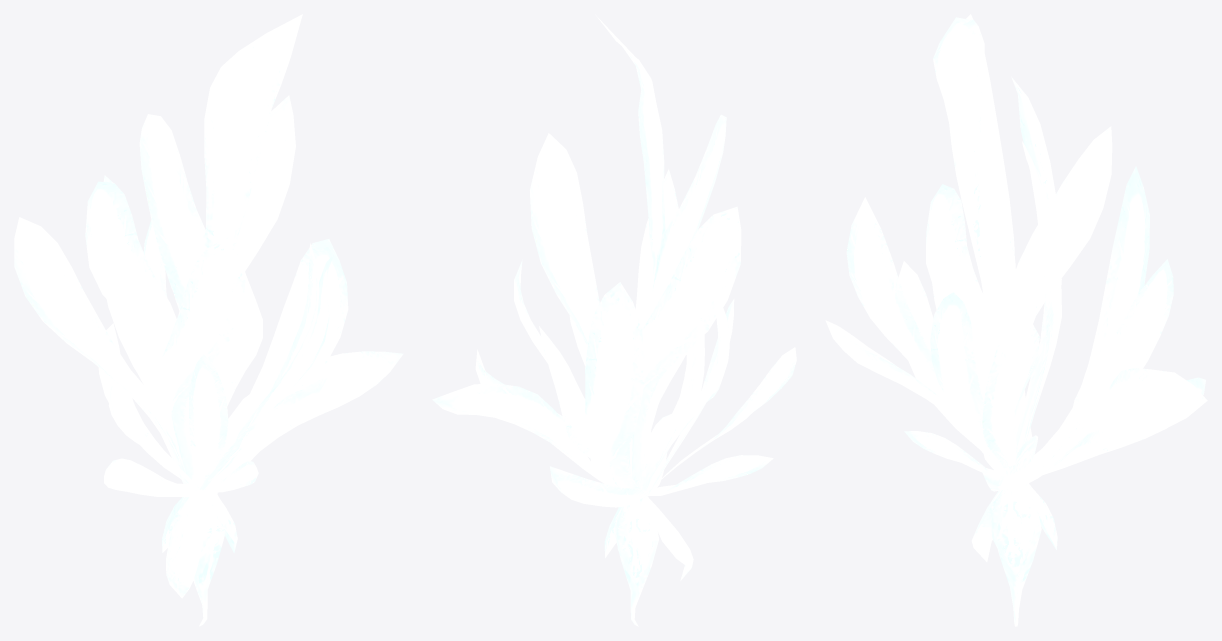
3 views of the same model, side by side, from view 1: azimuth 30°, elevation 25°; view 2: azimuth 150°, elevation 25°; view 3: azimuth 270°, elevation 25° (orthographic). The views are drawn at different scales.
Parts seen in each view (by area): view 1: SM_Toadflax_v3_LOD0; view 2: SM_Toadflax_v3_LOD0; view 3: SM_Toadflax_v3_LOD0.
Part boxes in pixels (x1=…): SM_Toadflax_v3_LOD0: x1=14, y1=14, x2=403, y2=626; SM_Toadflax_v3_LOD0: x1=432, y1=14, x2=796, y2=626; SM_Toadflax_v3_LOD0: x1=825, y1=14, x2=1207, y2=626.
Bounding box in the file's own units: 0.4453 × 0.7986 × 0.4272.
Materials: 1 (1 with a texture image).
